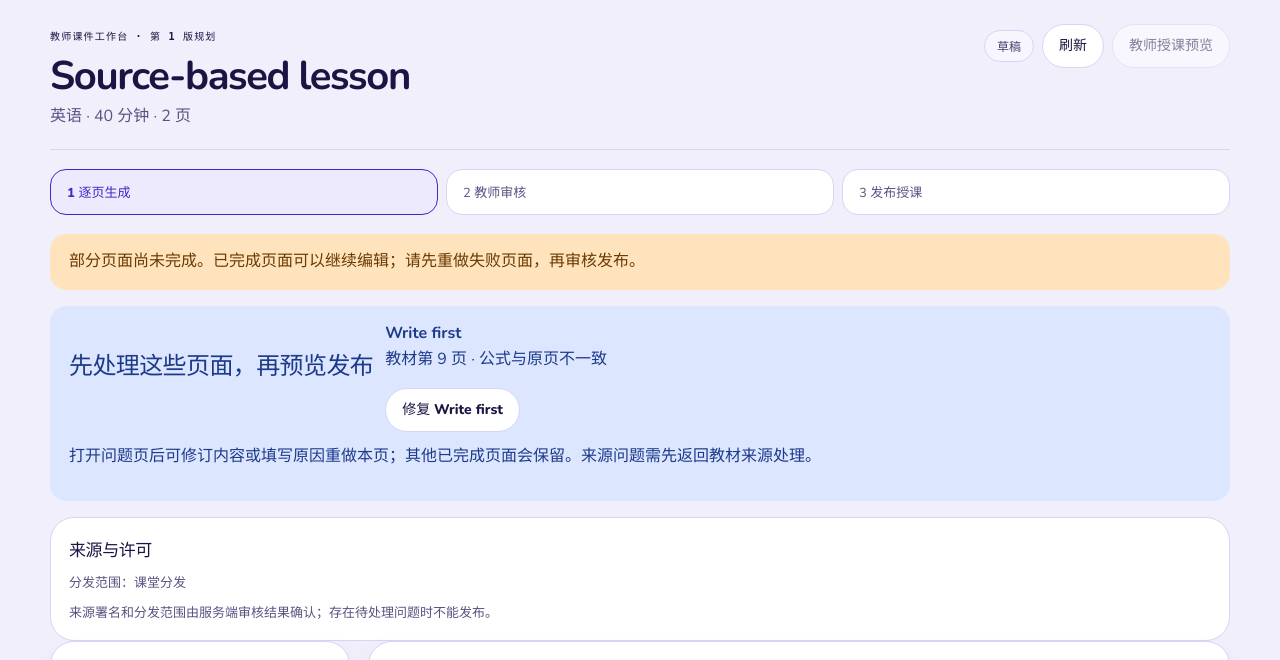
Test case: user Given a failed generated page When selecting its recovery action Then the located page editor opens with only that page available to redo
The image size is (1280, 660).
Expected: the element named "制作恢复与下一步" shows "教材第 9 页", [385,348,467,370]
Click the button "修复 Write first": (453, 410) [385,388,520,432]
(page scrolled)
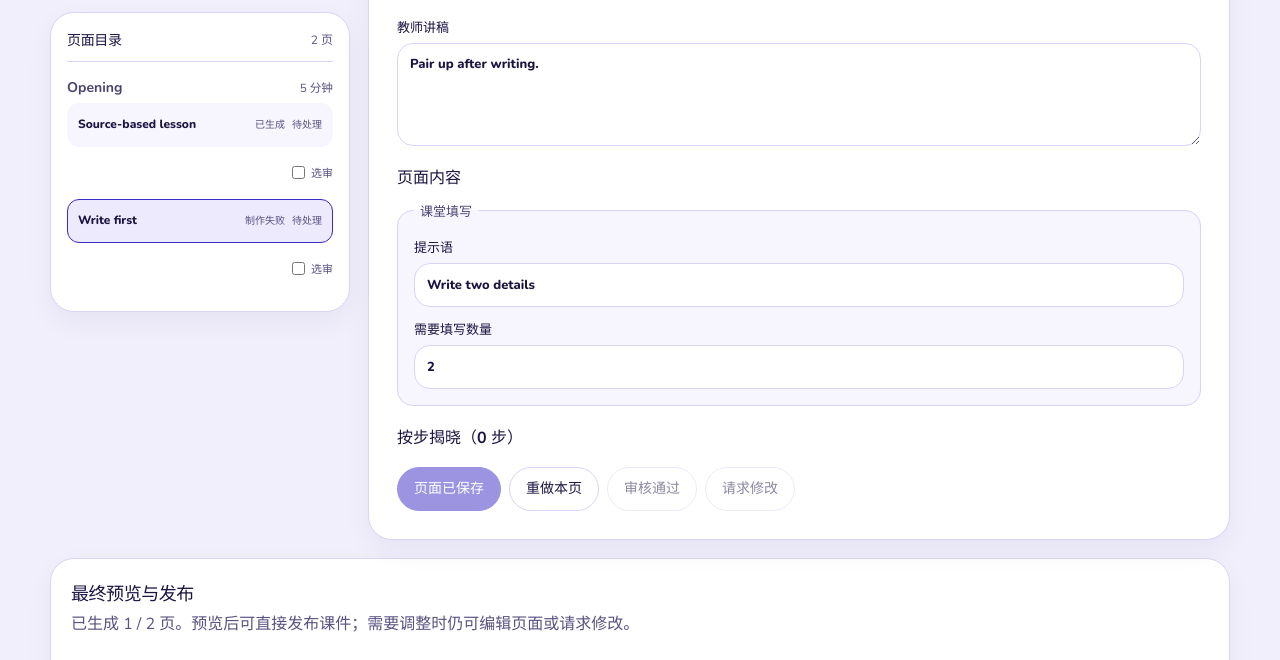
Click the button "重做本页": (554, 488) [509,466,599,510]
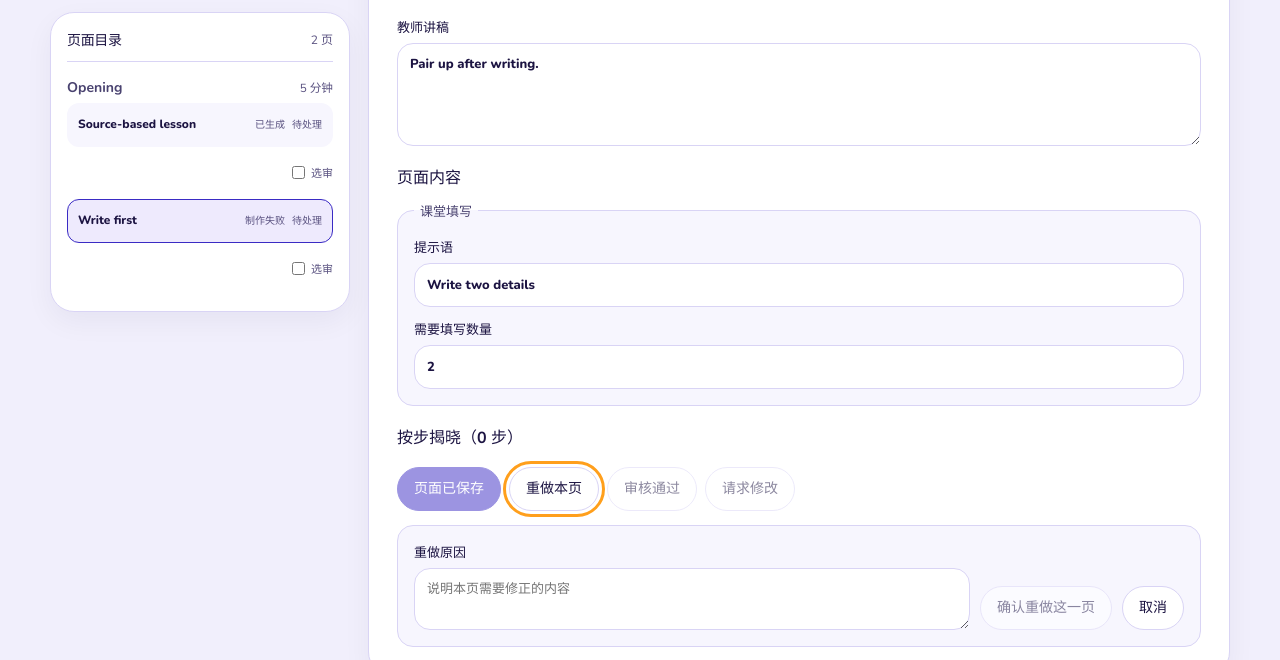
Result: the text box labelled "重做原因" is shown at [414,568,970,630]
